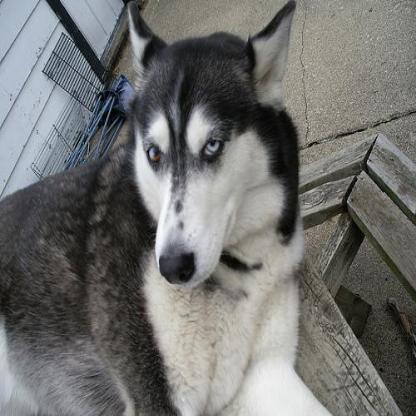Siberian_husky: (0, 0, 337, 414)
